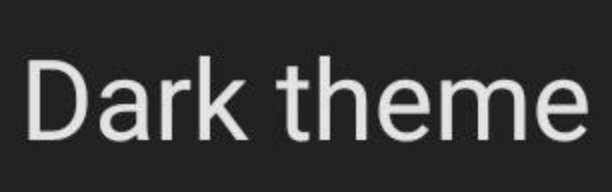TextView: (1, 1, 611, 191)
